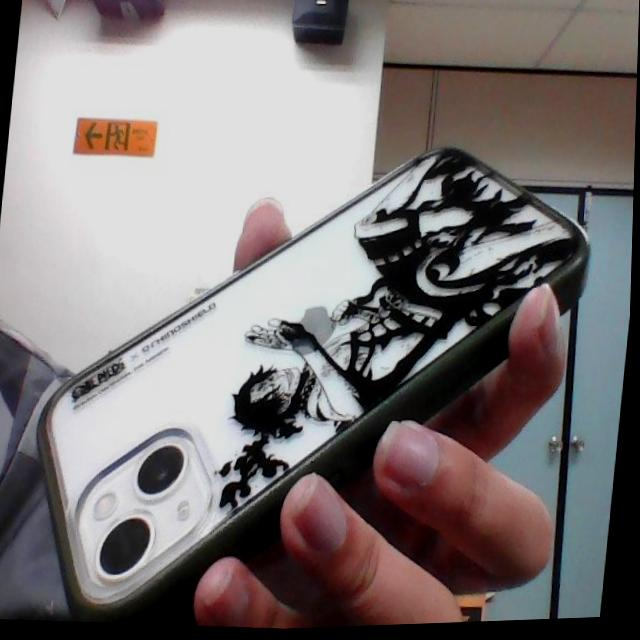Smartphone: (41, 123, 621, 627)
